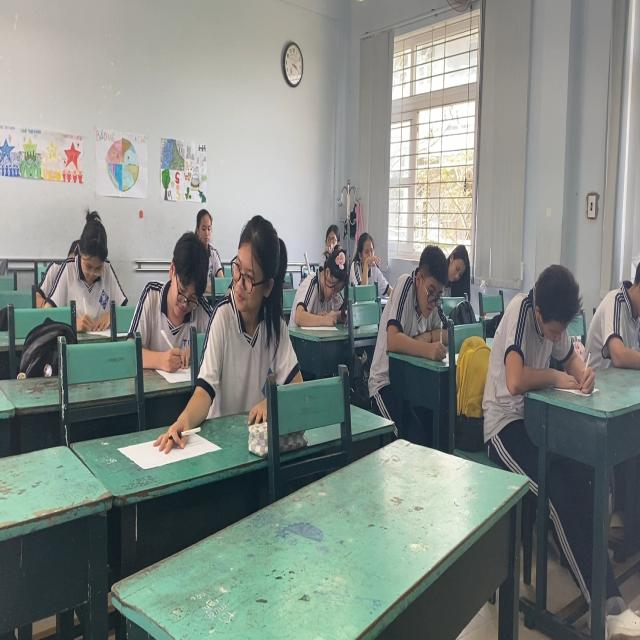cheating: (222, 213, 296, 400)
not_cheating: (488, 259, 588, 393), (141, 237, 212, 348), (60, 209, 126, 324), (386, 241, 448, 352), (292, 248, 354, 334), (193, 210, 224, 282), (352, 224, 383, 290), (442, 230, 471, 296)
